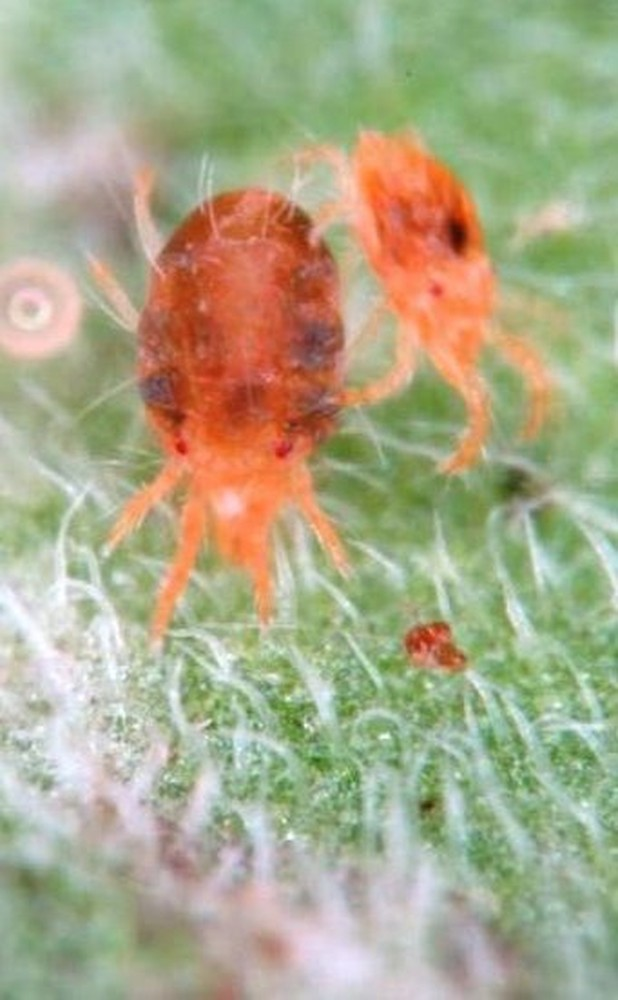Aracnido Rojo: (71, 133, 366, 647), (322, 102, 577, 506)
